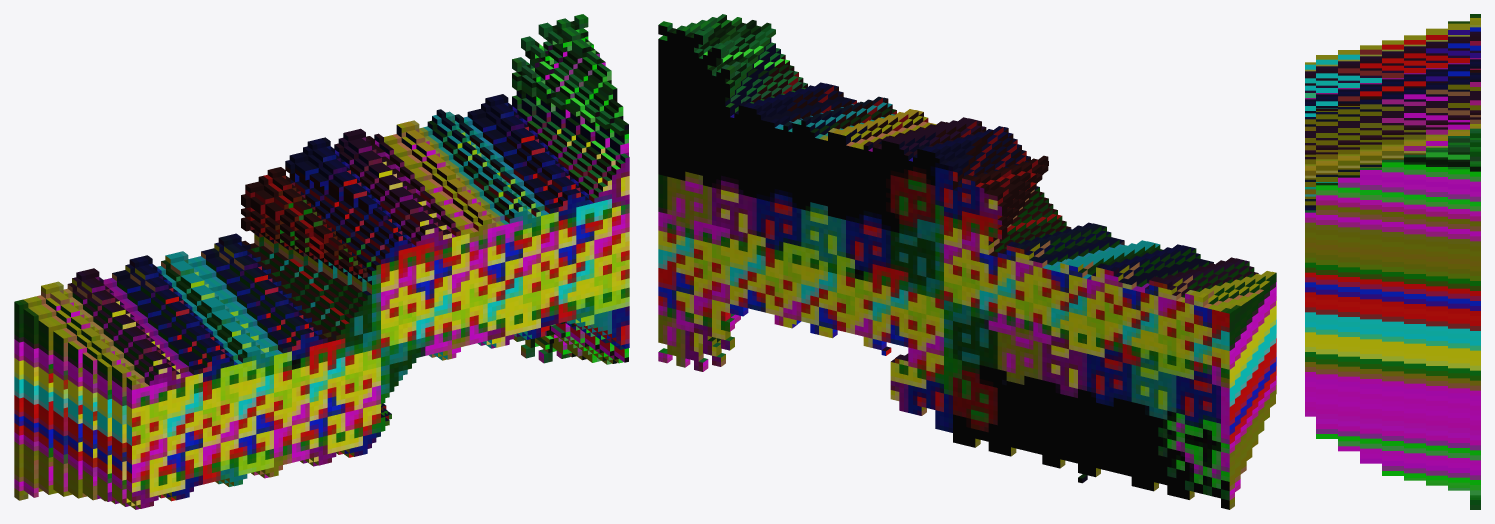
Rendered from dreamlingP20.obj.
3 views of the same model, side by side, from view 1: azimuth 30°, elevation 25°; view 2: azimuth 150°, elevation 25°; view 3: azimuth 270°, elevation 25° (orthographic). The views are drawn at different scales.
Size of the model in its own units: 128 by 76 by 32.
